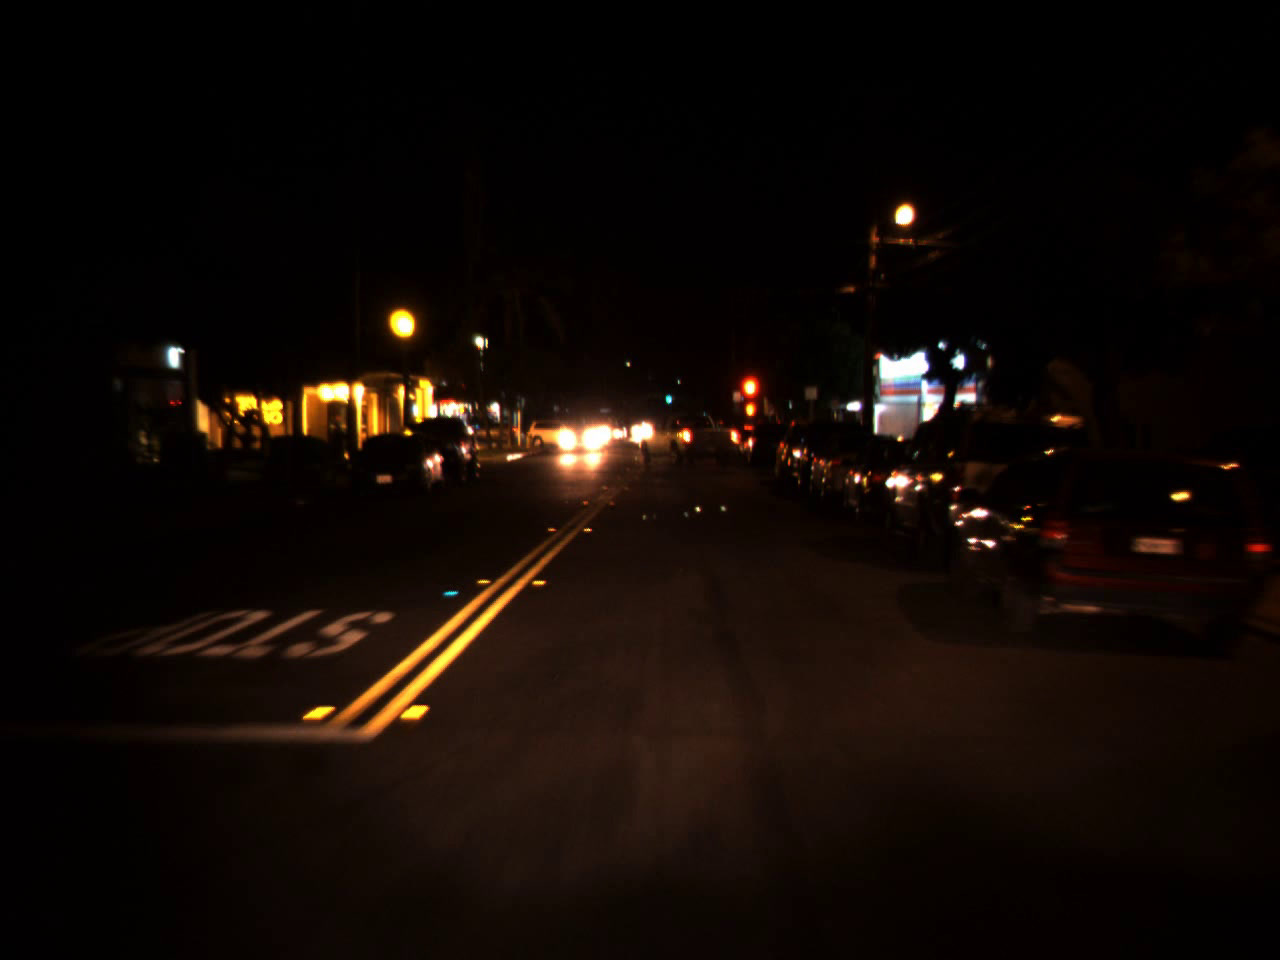go: (663, 387, 672, 405)
stop: (738, 371, 762, 427)
